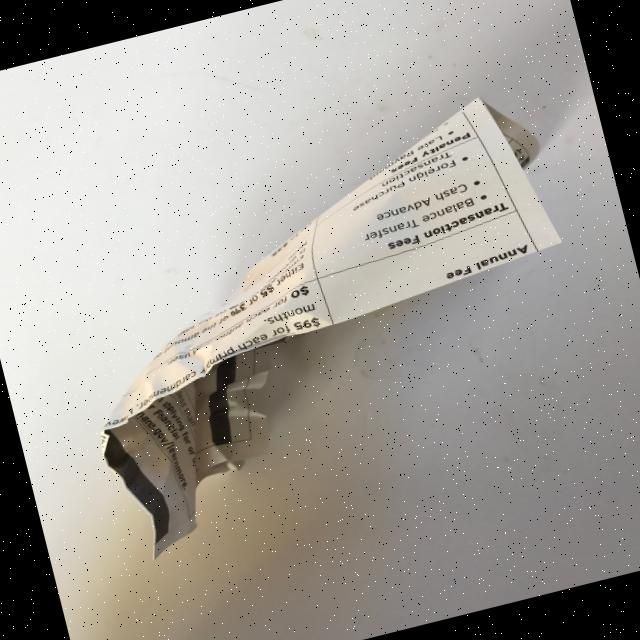paper: (39, 83, 614, 564)
